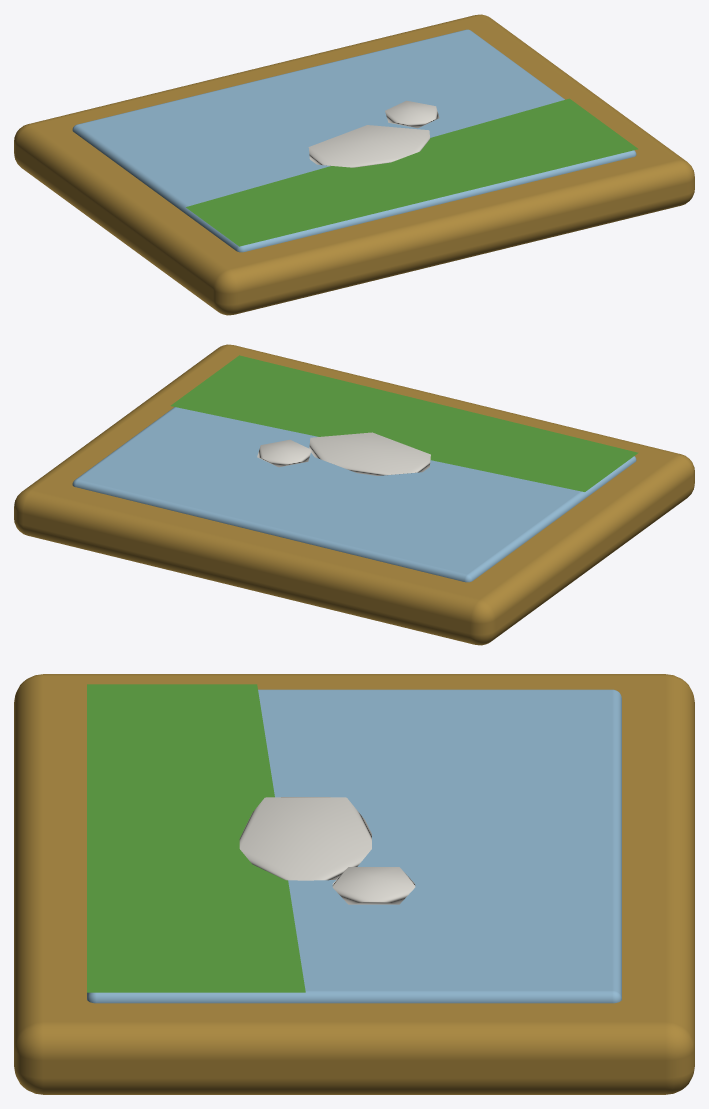
Rendered from item_ic_q_goatpic.glb.
The picture shows the model from 3 angles, top to bottom: view 1: azimuth 30°, elevation 25°; view 2: azimuth 150°, elevation 25°; view 3: azimuth 270°, elevation 25°; orthographic projection. The views are drawn at different scales.
Parts seen in each view (by area): view 1: item_ic_q_goatpic_main; view 2: item_ic_q_goatpic_main; view 3: item_ic_q_goatpic_main.
Part boxes in pixels (x1,y1,x2,y2): item_ic_q_goatpic_main: (14, 14, 694, 315); item_ic_q_goatpic_main: (14, 344, 694, 645); item_ic_q_goatpic_main: (14, 674, 694, 1094).
Size of the model in its own units: 0.18 by 0.0209 by 0.14.
